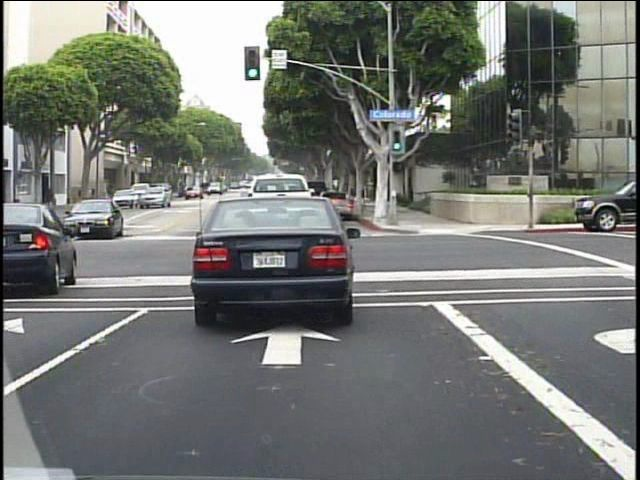person: (42, 185, 60, 219)
